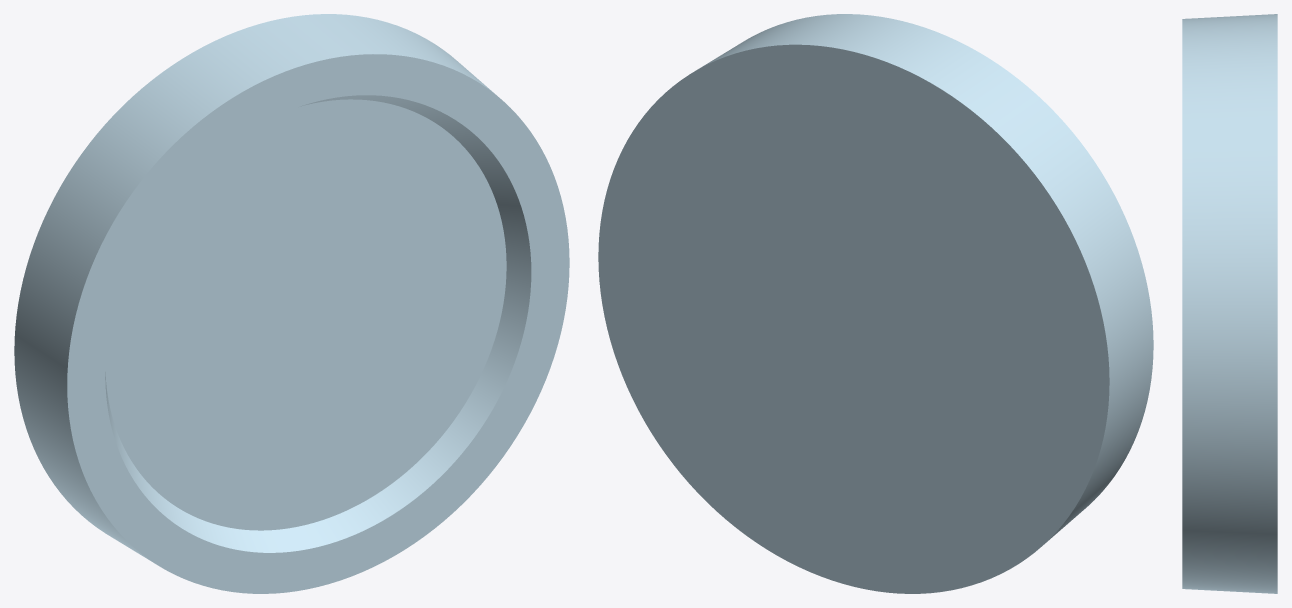
The model's file is Assembly 1 - Bezel.gltf.
The picture shows the model from 3 angles, left to right: view 1: azimuth 30°, elevation 25°; view 2: azimuth 150°, elevation 25°; view 3: azimuth 270°, elevation 25°; orthographic projection.
Visible parts, largest first — view 1: Bezel; view 2: Bezel; view 3: Bezel.
Part boxes in pixels (left/top/right/bottom): Bezel: left=14, top=14, right=569, bottom=593; Bezel: left=598, top=14, right=1153, bottom=593; Bezel: left=1182, top=14, right=1277, bottom=593.
Bounding box in the file's own units: 0.1524 × 0.1524 × 0.025.
